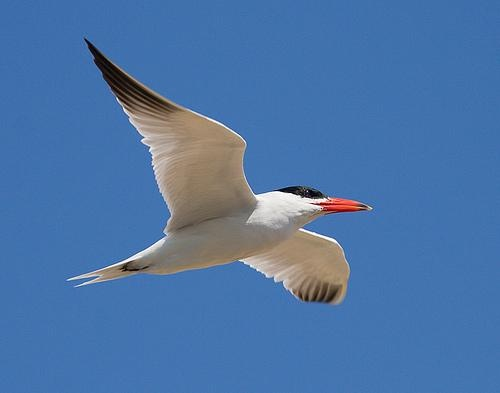bird: (62, 34, 374, 316)
